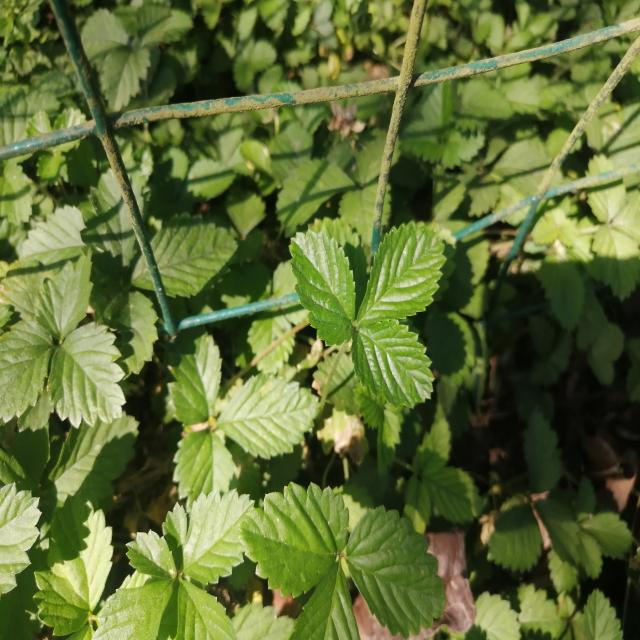Mock_strawberry: (294, 216, 448, 439), (248, 472, 448, 636), (162, 321, 326, 491), (106, 478, 259, 635), (0, 258, 132, 424)
